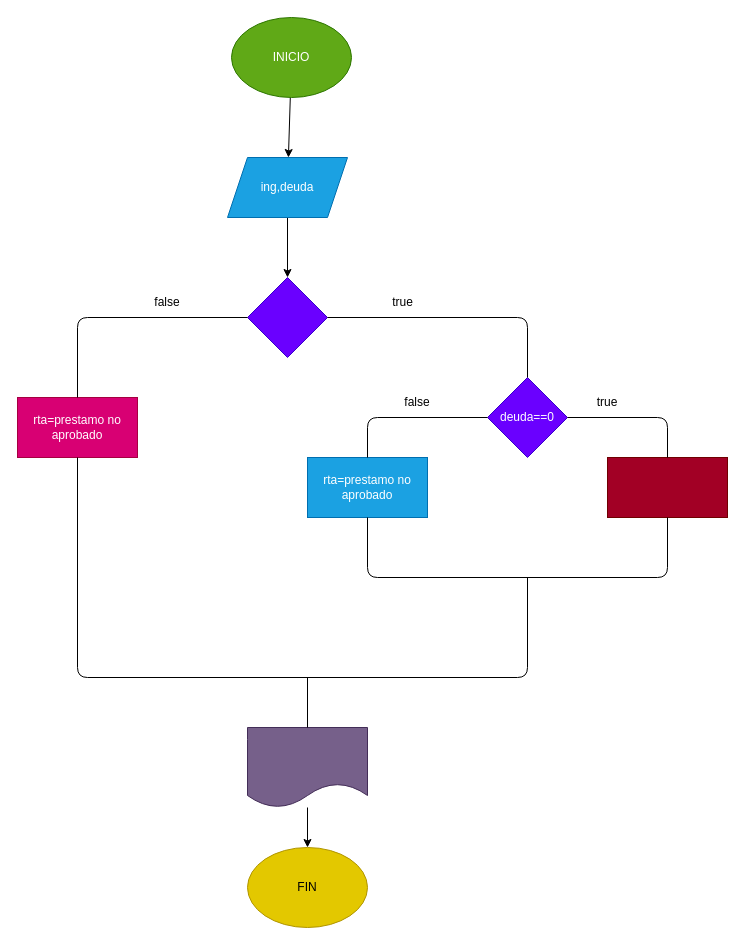
The diagram is 745 pixels wide and 945 high, and some of its shapes have lost their labels. Here are the shapes that lost their labels. From the top down, the box of each, then its label:
(246, 276, 328, 358): ing>945200
(606, 456, 728, 518): rta=prestamo aprobado
(246, 726, 368, 808): rta
